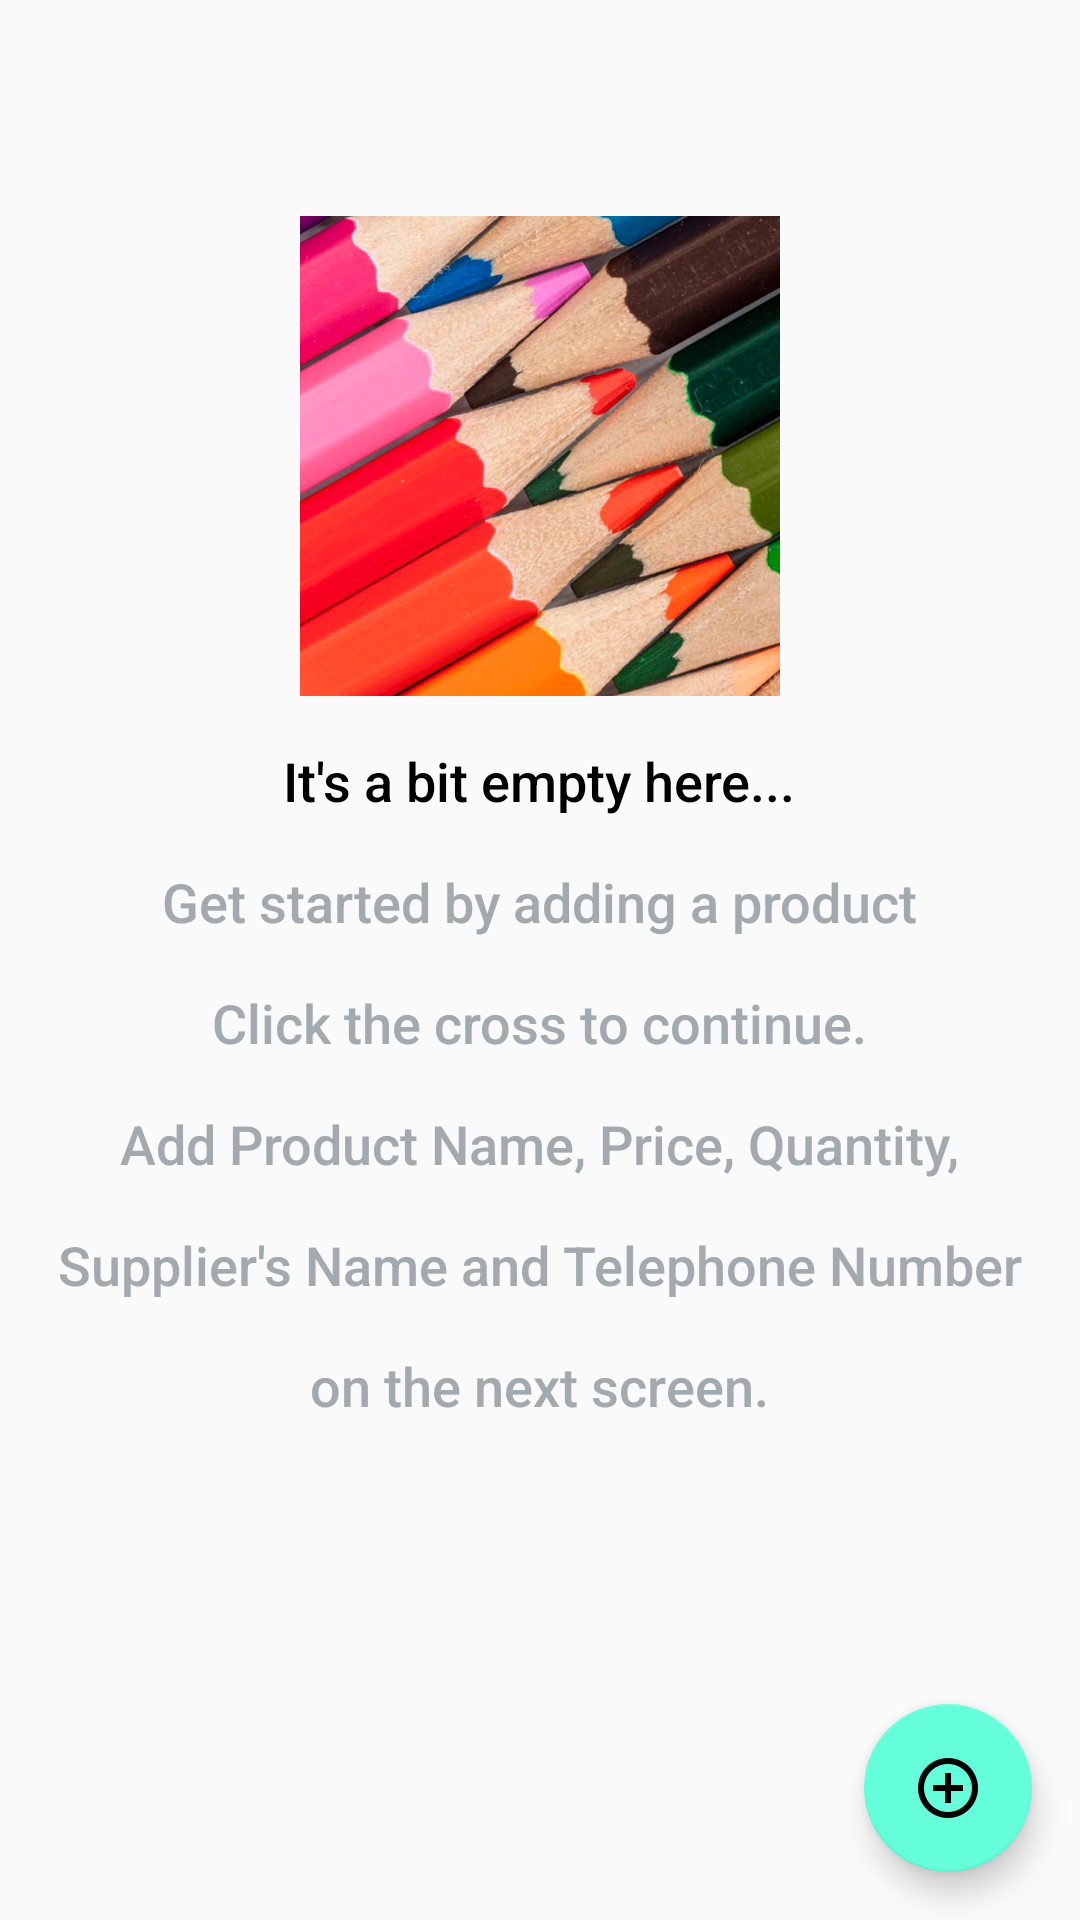

Icon bounding boxes for this 1080×1920 phone screenshot, format (x1, y1, x2, y2):
add circle: (864, 1704, 1032, 1872)
